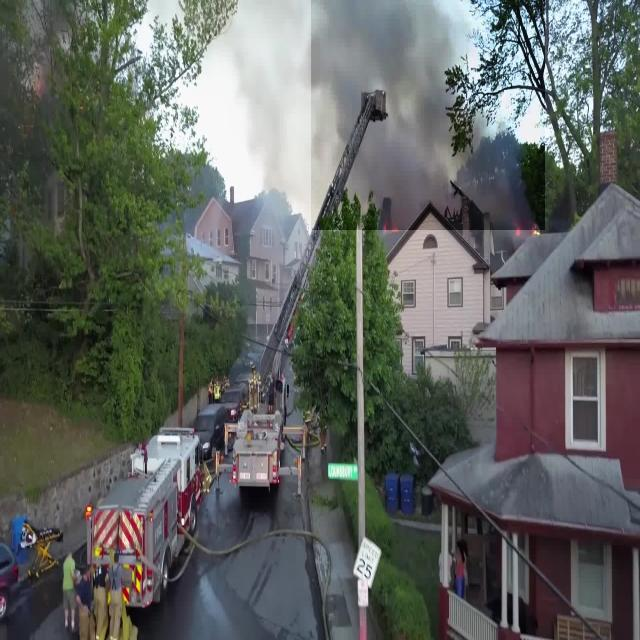Smoke: (311, 0, 545, 230)
